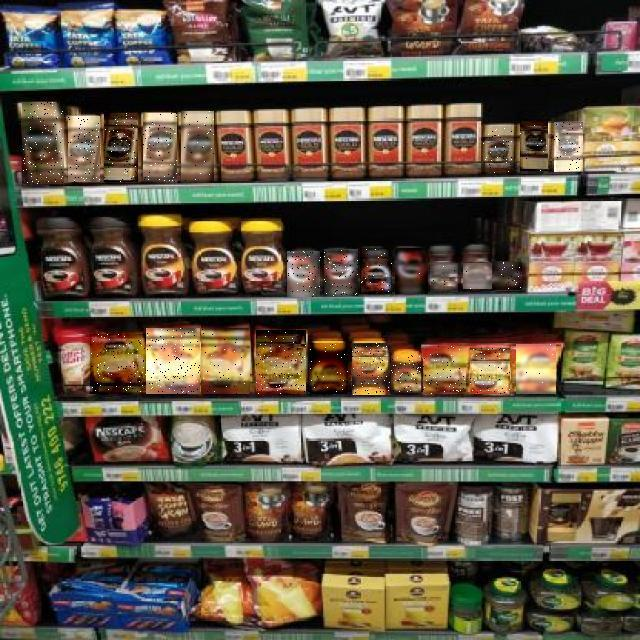Coffee: (146, 328, 200, 394), (22, 102, 64, 184), (91, 335, 147, 395), (256, 330, 306, 395), (201, 328, 250, 394), (104, 112, 138, 182), (143, 114, 177, 184), (181, 111, 214, 183), (68, 116, 100, 182), (424, 346, 466, 394), (516, 344, 556, 394), (352, 343, 390, 395), (310, 343, 348, 394), (470, 348, 510, 394), (324, 249, 358, 296), (288, 251, 322, 297), (395, 248, 428, 294), (360, 248, 392, 294), (520, 122, 548, 174), (554, 122, 583, 172), (483, 126, 512, 174), (391, 355, 421, 393), (493, 262, 522, 290), (430, 263, 458, 292), (463, 263, 492, 289)
